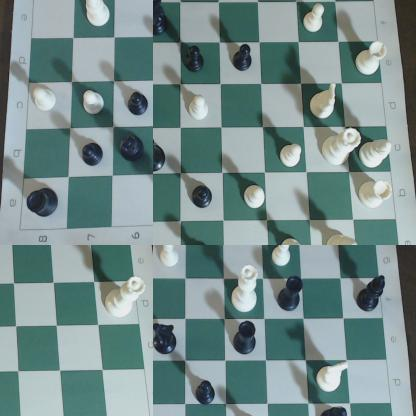black-bishop: (357, 272, 390, 316), (119, 134, 146, 162), (318, 406, 350, 416)
black-knight: (154, 321, 180, 356), (154, 1, 175, 41), (154, 139, 168, 173)
black-pawn: (124, 86, 153, 121), (232, 40, 256, 75), (184, 43, 209, 76), (198, 371, 220, 407), (81, 144, 106, 173), (192, 182, 212, 207)
black-rook: (28, 187, 62, 221), (275, 278, 304, 315), (231, 321, 259, 358)
white-bishop: (362, 131, 394, 171), (84, 1, 114, 35), (325, 226, 368, 245)
white-knight: (317, 359, 354, 396), (310, 84, 341, 120)
white-pawn: (29, 80, 60, 118), (241, 176, 268, 214), (187, 92, 216, 127), (305, 1, 329, 41), (82, 87, 107, 123), (276, 138, 304, 170), (271, 246, 296, 271), (160, 246, 181, 271), (280, 233, 305, 245)
white-queen: (105, 276, 148, 325), (227, 263, 263, 318), (320, 124, 363, 169)
white-rook: (357, 179, 395, 215), (356, 44, 389, 84)
